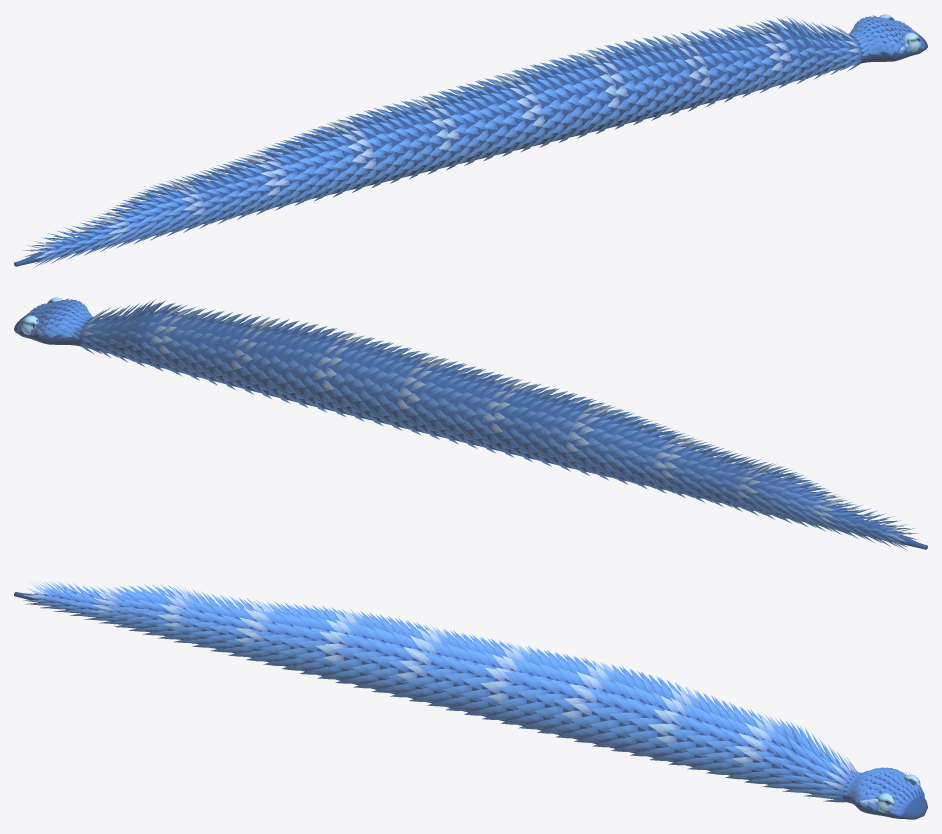
The model's file is atheris.glb.
3 views of the same model, one above another, from view 1: azimuth 30°, elevation 25°; view 2: azimuth 150°, elevation 25°; view 3: azimuth 330°, elevation 25° (orthographic).
Visible parts, largest first — view 1: Atheris; view 2: Atheris; view 3: Atheris.
Part boxes in pixels (x1,y1,x2,y2): Atheris: [14, 14, 927, 267]; Atheris: [14, 297, 927, 550]; Atheris: [14, 581, 927, 819].
Bounding box in the file's own units: 1 × 0.078 × 0.0895.
